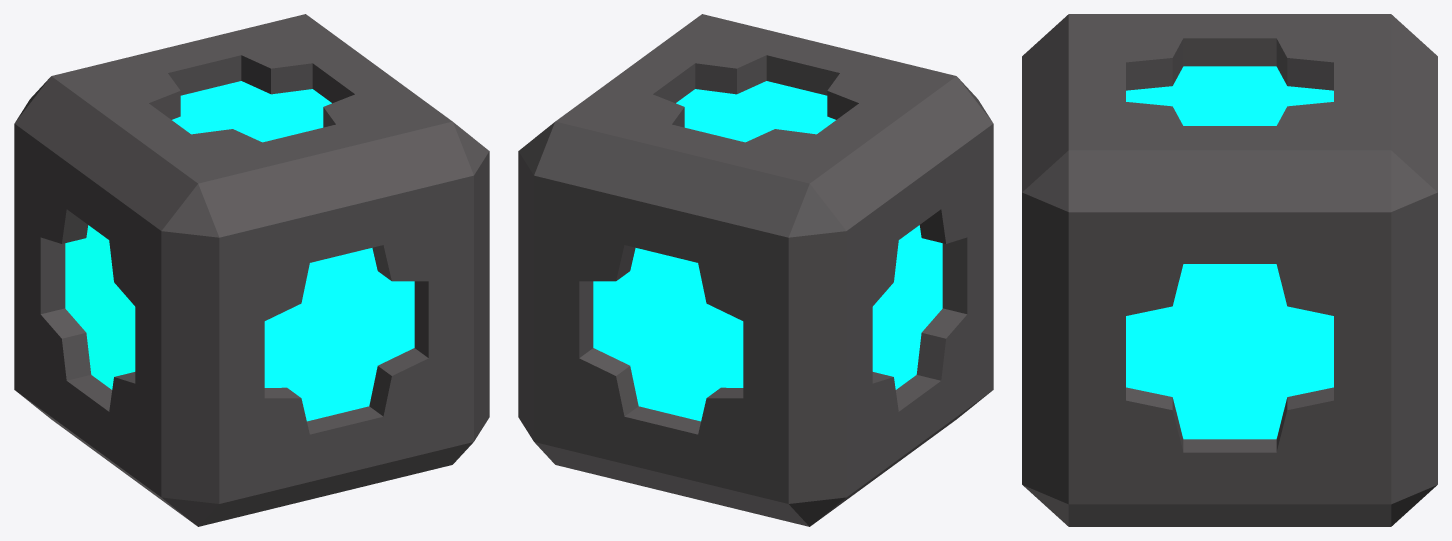
3 views of the same model, side by side, from view 1: azimuth 30°, elevation 25°; view 2: azimuth 150°, elevation 25°; view 3: azimuth 270°, elevation 25° (orthographic). The views are drawn at different scales.
Parts seen in each view (by area): view 1: Cube, Cube.001; view 2: Cube, Cube.001; view 3: Cube, Cube.001.
Boxes of the visible parts, x1=… form: Cube: x1=14, y1=14, x2=489, y2=526; Cube.001: x1=65, y1=81, x2=414, y2=421; Cube: x1=518, y1=14, x2=993, y2=526; Cube.001: x1=593, y1=81, x2=942, y2=421; Cube: x1=1022, y1=14, x2=1437, y2=526; Cube.001: x1=1126, y1=66, x2=1333, y2=439.
Bounding box in the file's own units: 496 × 496 × 496.
